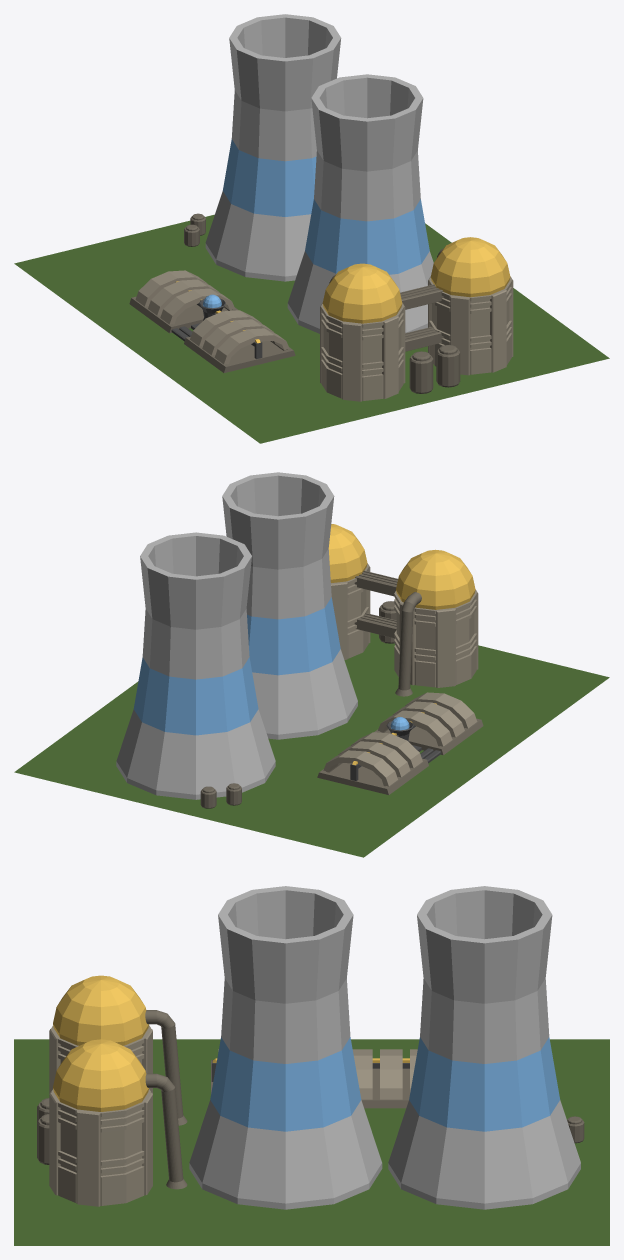
The model's file is Power_Plant.fbx.
3 renders of one model, top to bottom at view 1: azimuth 30°, elevation 25°; view 2: azimuth 150°, elevation 25°; view 3: azimuth 270°, elevation 25°, orthographic. The views are drawn at different scales.
Visible parts, largest first — view 1: Ground, Truba_1, Truba_1.001, Cylinder.004, Cylinder.014, Sphere.001, Sphere.003, Cube.009, Cylinder.013, Cylinder.010, Cylinder.015, Cylinder.018 (+7 smaller); view 2: Ground, Truba_1.001, Truba_1, Cylinder.004, Sphere.001, Cylinder.014, Sphere.003, Cube.013, Circle, Cylinder.008, Cylinder.011, Cube.009 (+6 smaller); view 3: Ground, Truba_1, Truba_1.001, Cylinder.014, Sphere.003, Sphere.001, Circle.001, Circle, Cylinder.004, Cylinder.009, Cube.013, Cylinder.010 (+1 smaller).
Boxes of the visible parts, x1,y1,x2,y2 form: Ground: (14, 214, 609, 443); Truba_1: (287, 74, 433, 333); Truba_1.001: (205, 14, 341, 281); Cylinder.004: (320, 303, 405, 401); Cylinder.014: (428, 276, 513, 375); Sphere.001: (322, 263, 402, 323); Sphere.003: (430, 237, 510, 297); Cube.009: (184, 336, 295, 372); Cylinder.013: (214, 328, 289, 364); Cylinder.010: (160, 288, 234, 324); Cylinder.015: (409, 351, 433, 393); Cylinder.018: (436, 345, 460, 387); Ground: (14, 632, 609, 857); Truba_1.001: (116, 532, 275, 799); Truba_1: (222, 472, 357, 739); Cylinder.004: (394, 590, 478, 687); Sphere.001: (396, 549, 475, 609); Cylinder.014: (331, 563, 370, 659); Sphere.003: (328, 524, 367, 582); Cube.013: (317, 758, 428, 794); Circle: (395, 592, 421, 696); Cylinder.008: (323, 750, 397, 786); Cylinder.011: (378, 710, 452, 746); Cube.009: (374, 718, 483, 755); Ground: (14, 1039, 609, 1245); Truba_1: (189, 886, 382, 1209); Truba_1.001: (388, 886, 580, 1209); Cylinder.014: (49, 1089, 152, 1206); Sphere.003: (53, 1039, 148, 1111); Sphere.001: (53, 975, 148, 1045); Circle.001: (145, 1073, 187, 1189); Circle: (145, 1010, 187, 1125); Cylinder.004: (49, 1025, 152, 1093); Cylinder.009: (380, 1049, 402, 1099); Cube.013: (361, 1068, 409, 1108); Cylinder.010: (352, 1049, 372, 1099).
Size of the model in its own units: 541 by 317 by 659.
